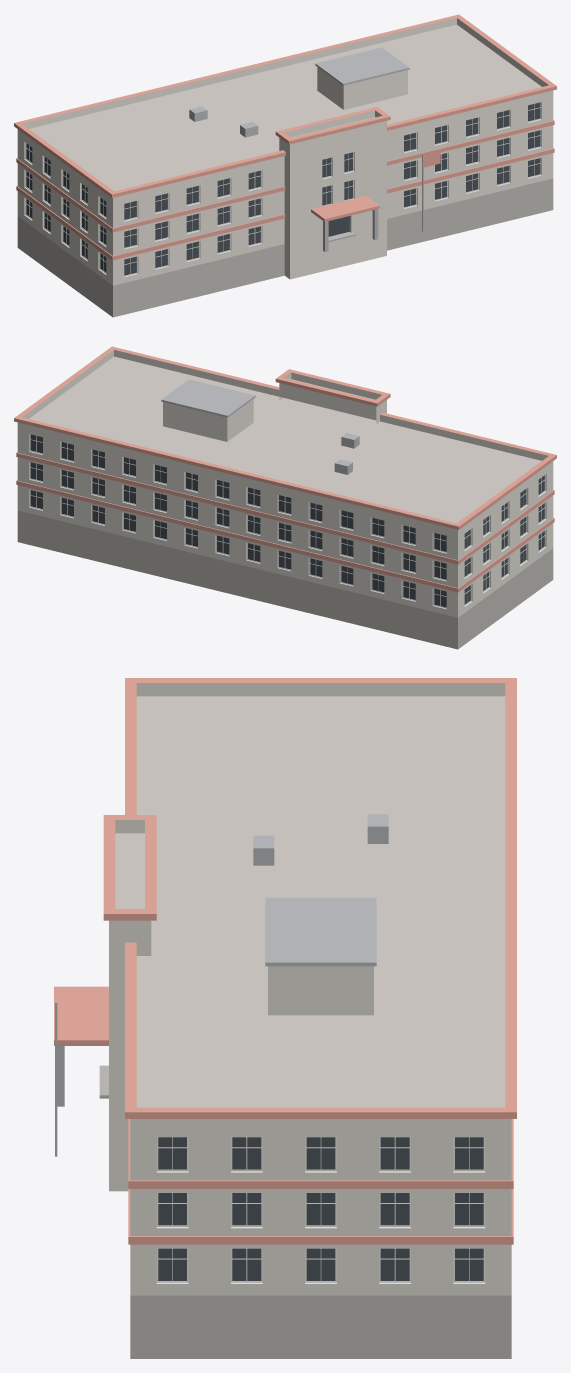
The model's file is public_flat_3_xl.glb.
3 renders of one model, top to bottom at view 1: azimuth 30°, elevation 25°; view 2: azimuth 150°, elevation 25°; view 3: azimuth 270°, elevation 25°, orthographic. The views are drawn at different scales.
Visible parts, largest first — view 1: public_flat_3_xl; view 2: public_flat_3_xl; view 3: public_flat_3_xl.
Boxes of the visible parts, left/top/right/bottom form: public_flat_3_xl: left=14, top=14, right=556, bottom=317; public_flat_3_xl: left=14, top=346, right=556, bottom=649; public_flat_3_xl: left=54, top=678, right=516, bottom=1358.
Bounding box in the file's own units: 48.5 × 15.05 × 21.85.
